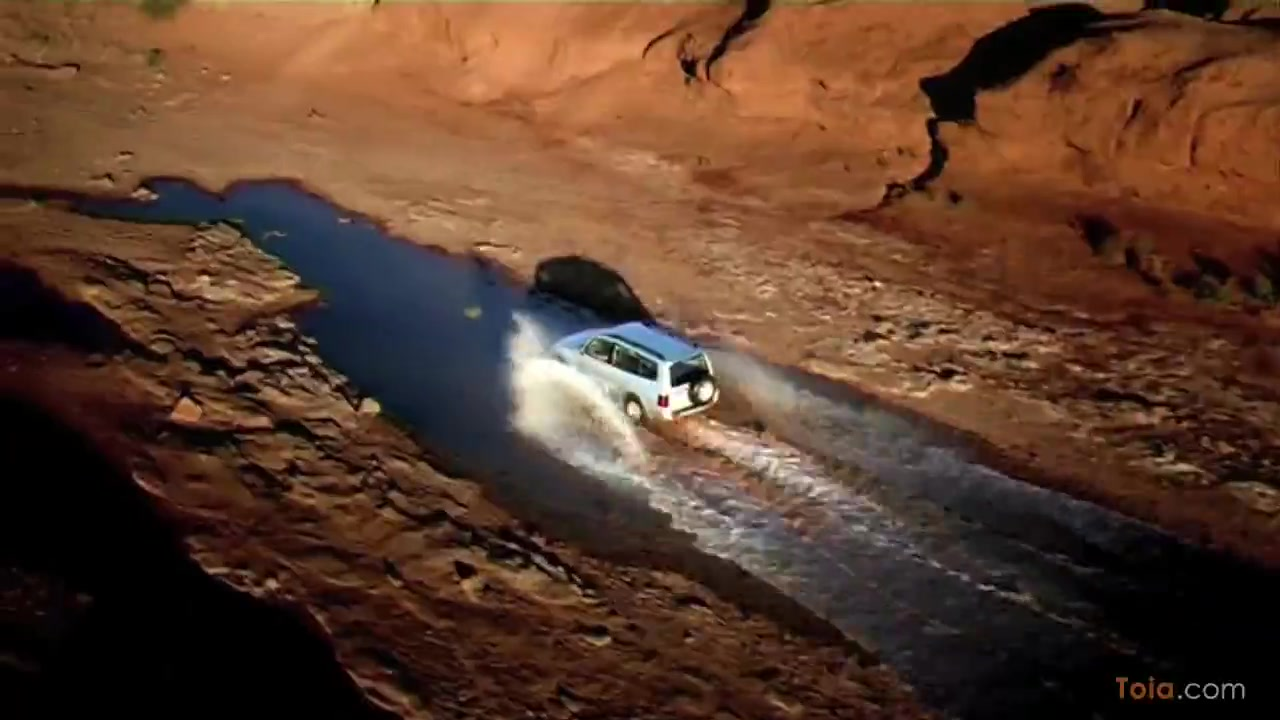car: (548, 319, 722, 430)
